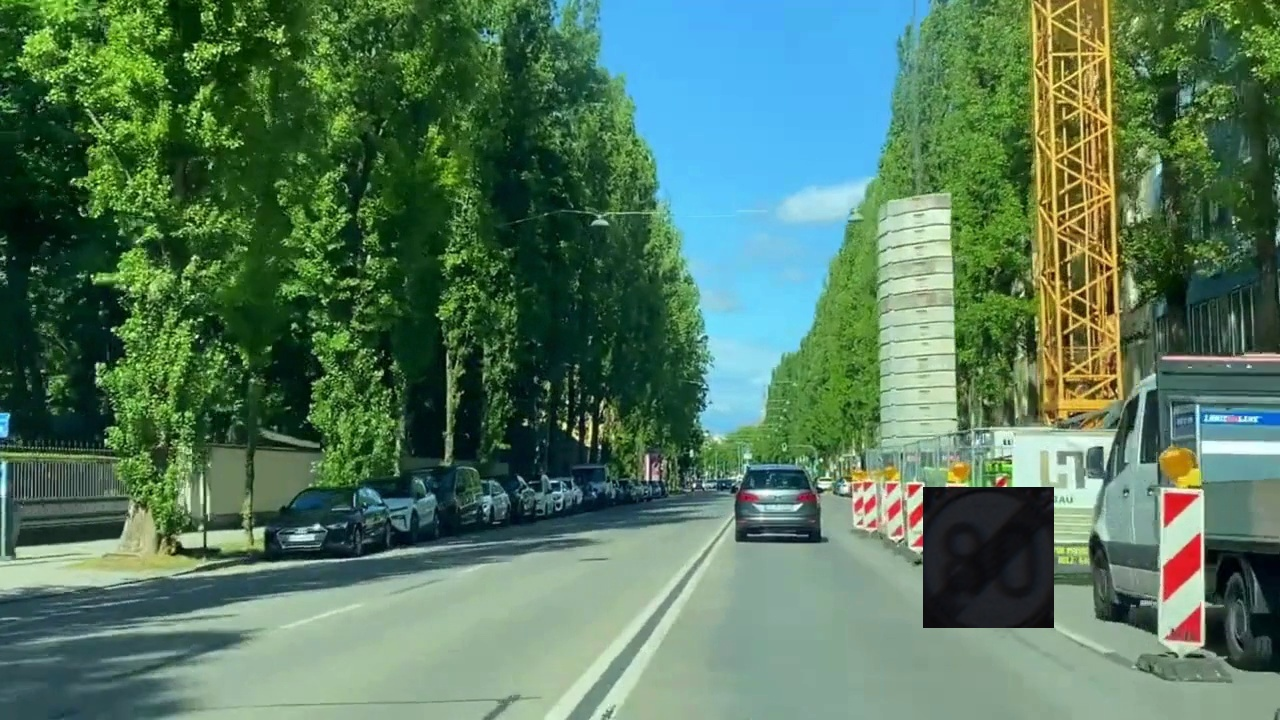End Speed 80: (923, 487, 1054, 628)
